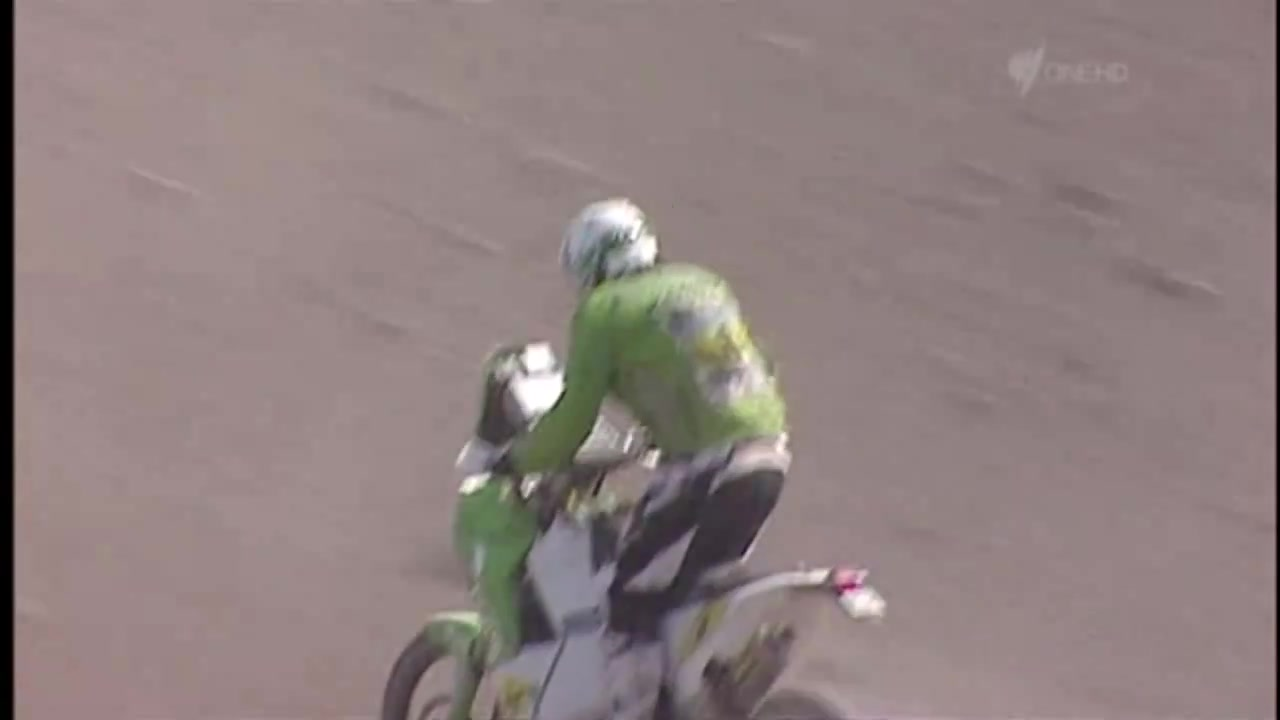motorbike: (374, 341, 887, 720)
